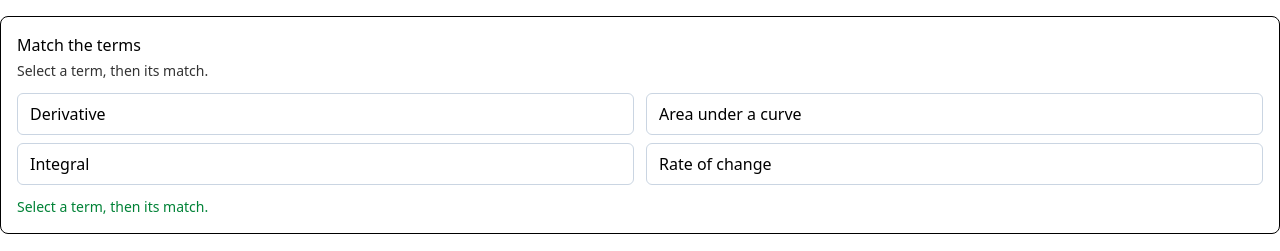
Test: MatchingPairs › selecting an incorrect pair announces a mismatch and clears the selection
expect the text "Derivative" is shown: met, box [30,103,106,125]
Click the button "Derivative".
click(68, 114)  # box [17,93,634,135]
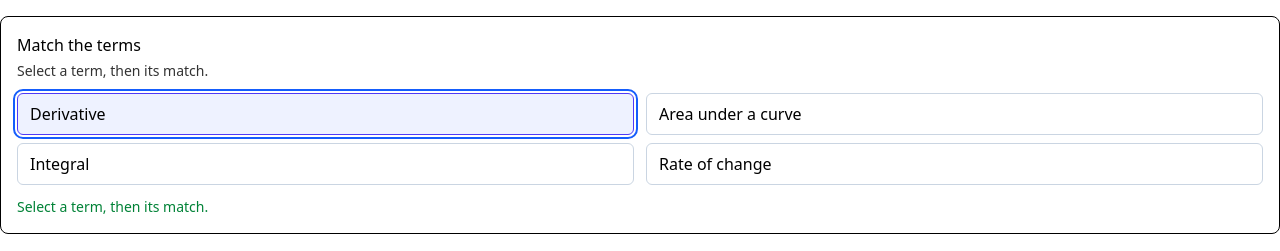
Click the button "Area under a curve".
click(730, 114)  # box [646,93,1263,135]
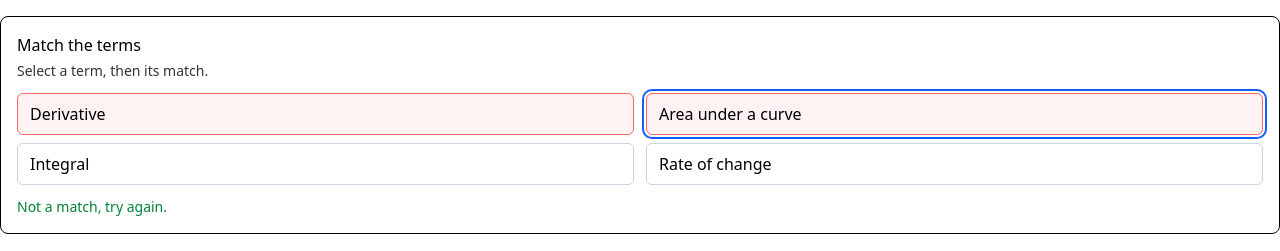
expect the button "Derivative" is enabled: met, box [17,93,634,135]
expect the message reads "Not a match, try again.": met, box [17,197,167,216]
